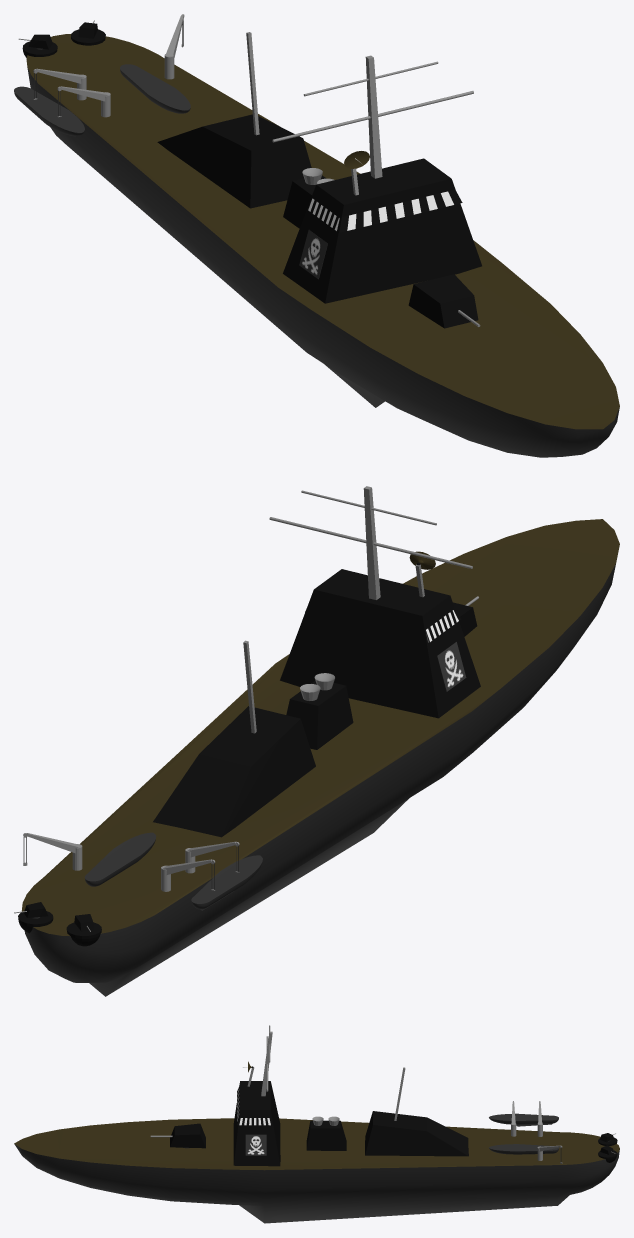
The model's file is Pirate_McPirateface.FBX.
The picture shows the model from 3 angles, top to bottom: view 1: azimuth 30°, elevation 25°; view 2: azimuth 150°, elevation 25°; view 3: azimuth 270°, elevation 25°; orthographic projection. The views are drawn at different scales.
Visible parts, largest first — view 1: M_Hull, M_Gun; view 2: M_Hull; view 3: M_Hull, M_Gun.
Part boxes in pixels (x1,y1,x2,y2): M_Hull: (14,14,619,457); M_Gun: (408,274,480,328); M_Hull: (14,486,619,996); M_Hull: (14,1025,619,1223); M_Gun: (150,1123,205,1148).
Bounding box in the file's own units: 6.11 × 9.92 × 28.52.
